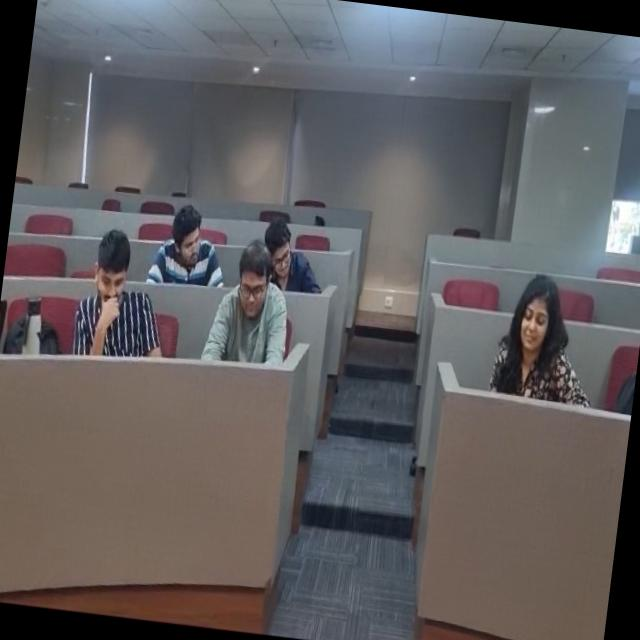cheating: (138, 186, 232, 304)
non-cheating: (480, 268, 600, 412), (64, 215, 152, 366), (202, 229, 284, 363), (256, 212, 326, 296)
